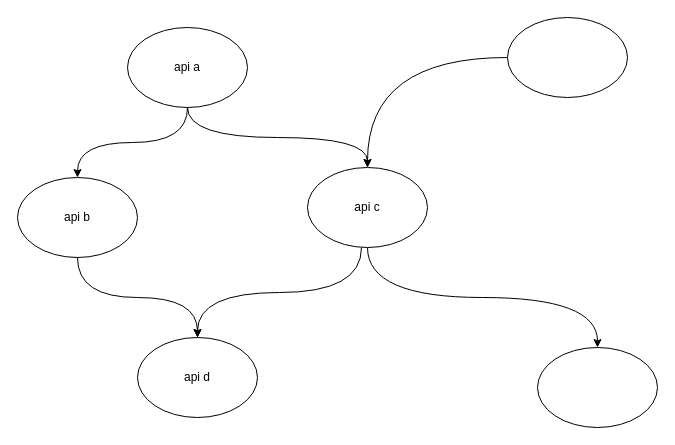
This 675x445 diagram has some shape labels left out. Here are the shapes that lost their labels. From the top down, the centre of each, then its label:
At [567,57]: "api f".
At [597,387]: "api e".
